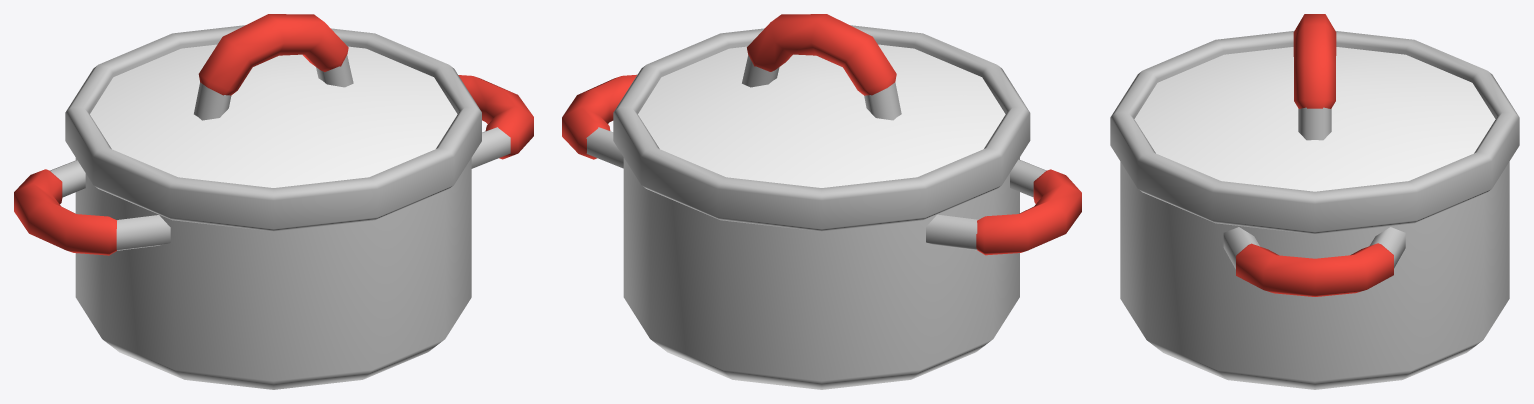
The model's file is prop_022.fbx.
The picture shows the model from 3 angles, left to right: view 1: azimuth 30°, elevation 25°; view 2: azimuth 150°, elevation 25°; view 3: azimuth 270°, elevation 25°; orthographic projection.
Visible parts, largest first — view 1: prop_022; view 2: prop_022; view 3: prop_022.
Boxes of the visible parts, box(x1,y1,x2,y2) form: prop_022: box(14, 14, 533, 389); prop_022: box(562, 14, 1081, 389); prop_022: box(1110, 14, 1519, 389).
Size of the model in its own units: 51.86 by 38.27 by 30.06.
